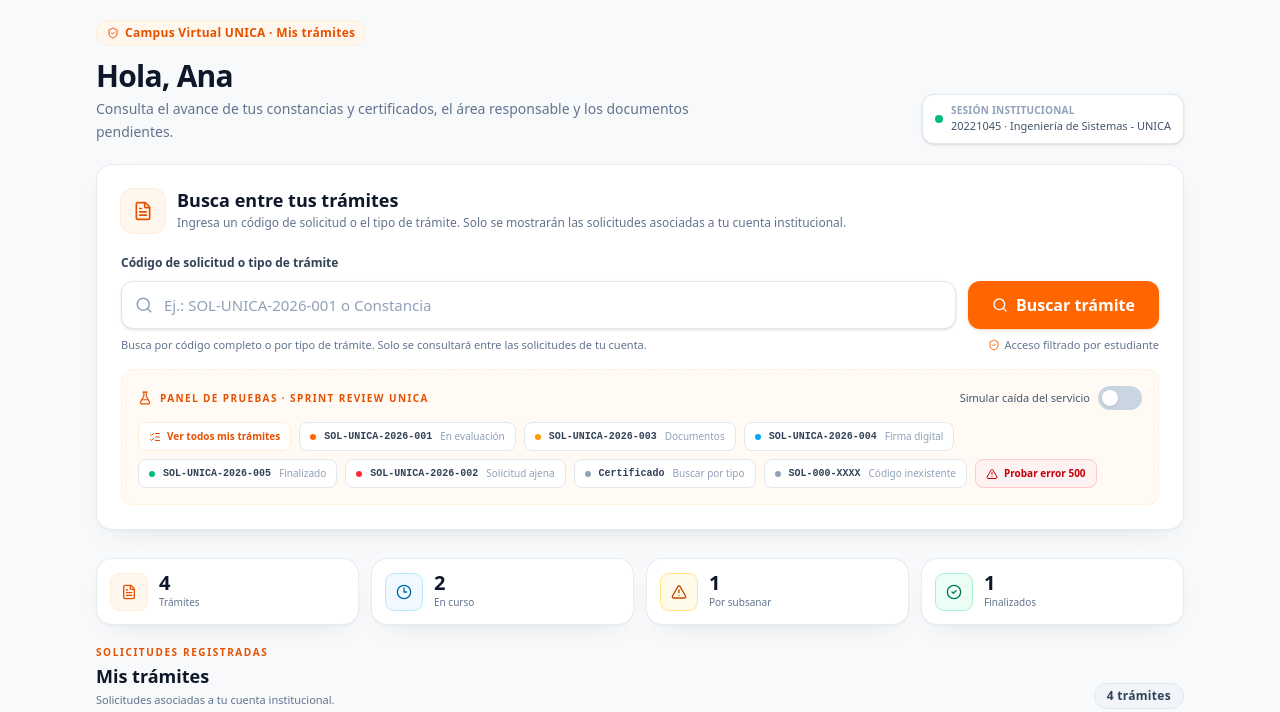
Scenario: Campus Virtual UNICA · integración UI › muestra el aviso de código inexistente sin datos de terceros
Type "SOL-000-XXXX" into the field labelled "Código de solicitud o tipo de trámite" at (538, 304), box [121, 280, 956, 328]
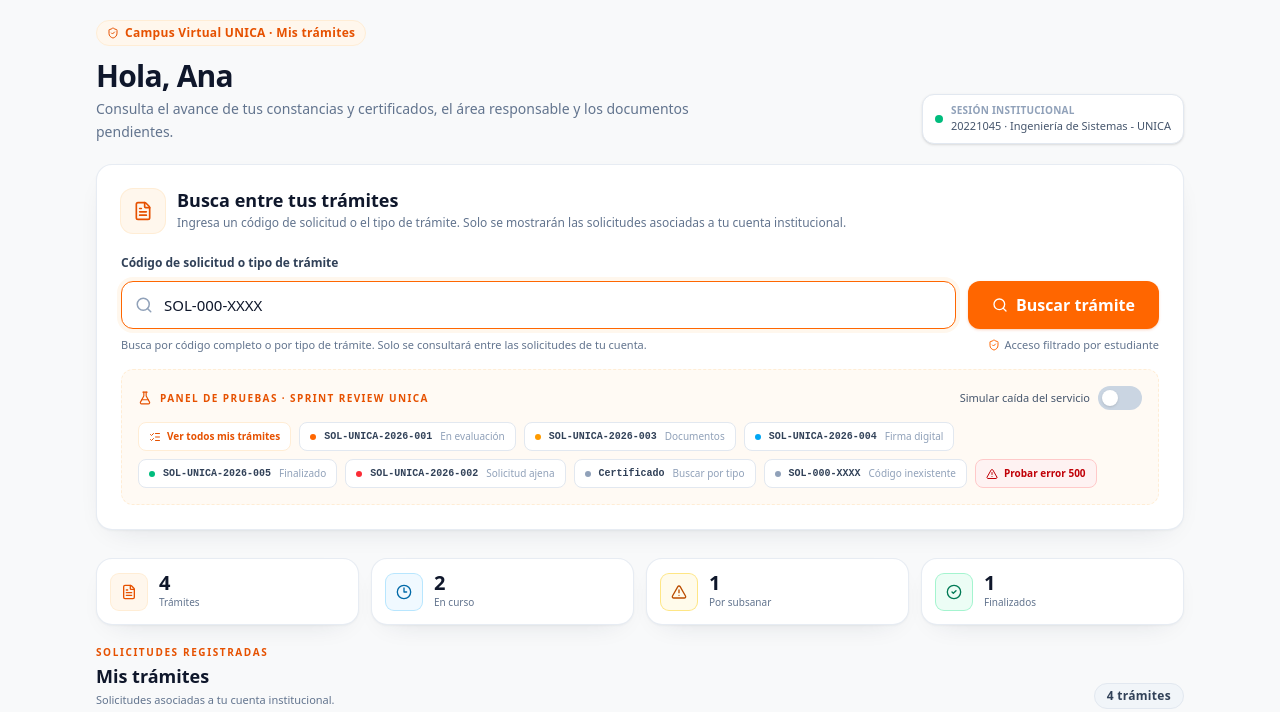
Click the button "Buscar trámite" at (1063, 304), box [968, 280, 1159, 328]
(page scrolled)
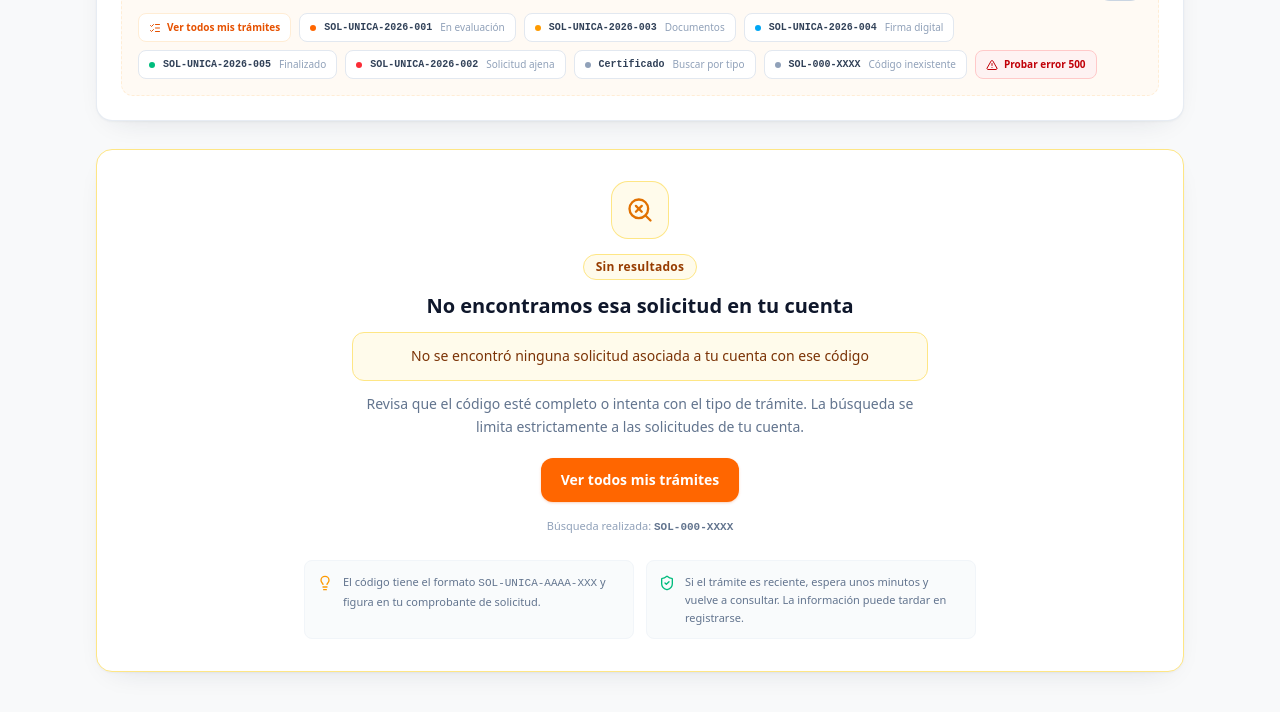
Now the text "No se encontró ninguna solicitud asociada a tu cuenta con ese código" is shown, box [352, 332, 928, 381]
Now the heading "No encontramos esa solicitud en tu cuenta" is shown, box [426, 292, 854, 319]
Now the text "Búsqueda realizada: SOL-000-XXXX" is shown, box [547, 518, 733, 533]
